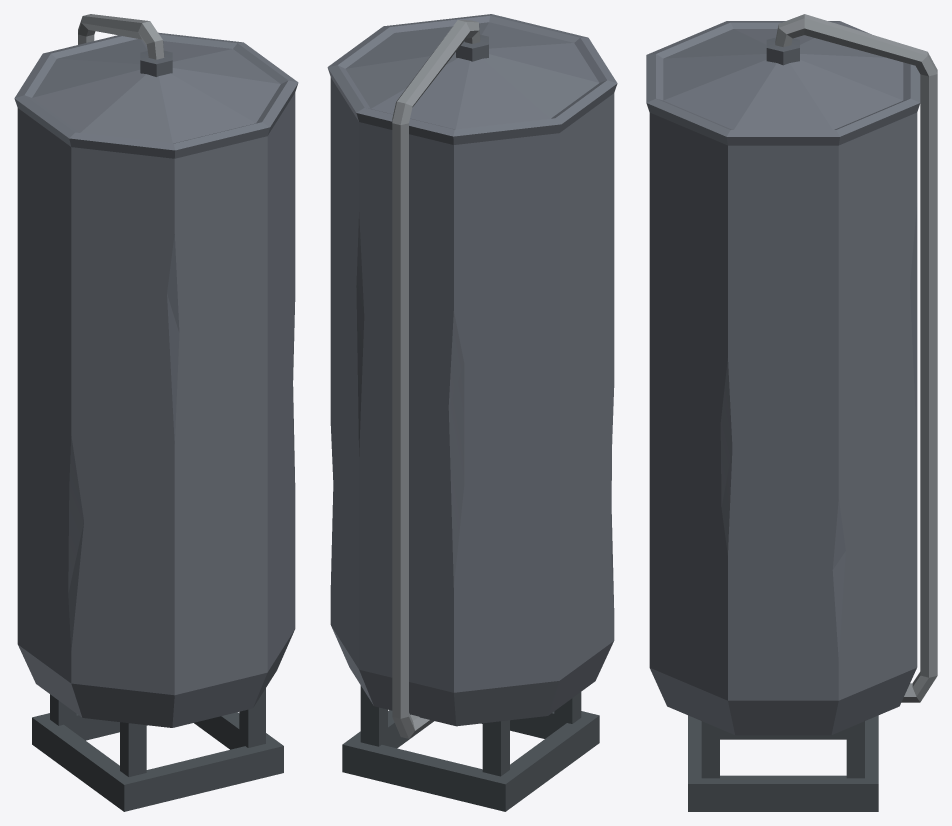
The model's file is SM_Prop_Lab_Tank_02.obj.
3 renders of one model, left to right at view 1: azimuth 30°, elevation 25°; view 2: azimuth 150°, elevation 25°; view 3: azimuth 270°, elevation 25°, orthographic. The views are drawn at different scales.
Parts seen in each view (by area): view 1: SM_Prop_Lab_Tank_02_0; view 2: SM_Prop_Lab_Tank_02_0; view 3: SM_Prop_Lab_Tank_02_0.
Part boxes in pixels (bbox=[...]): SM_Prop_Lab_Tank_02_0: bbox=[14, 14, 298, 811]; SM_Prop_Lab_Tank_02_0: bbox=[327, 14, 617, 811]; SM_Prop_Lab_Tank_02_0: bbox=[646, 14, 937, 811].
Size of the model in its own units: 0.5651 by 1.72 by 0.6007.
Materials: 1 (1 with a texture image).
